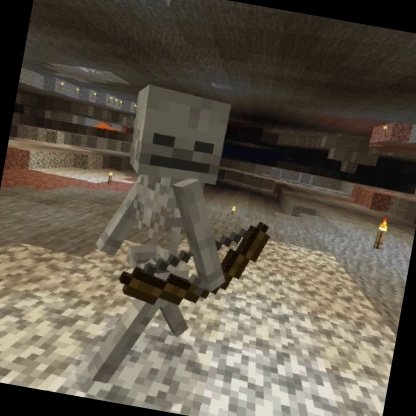skeleton: (67, 74, 296, 412)
